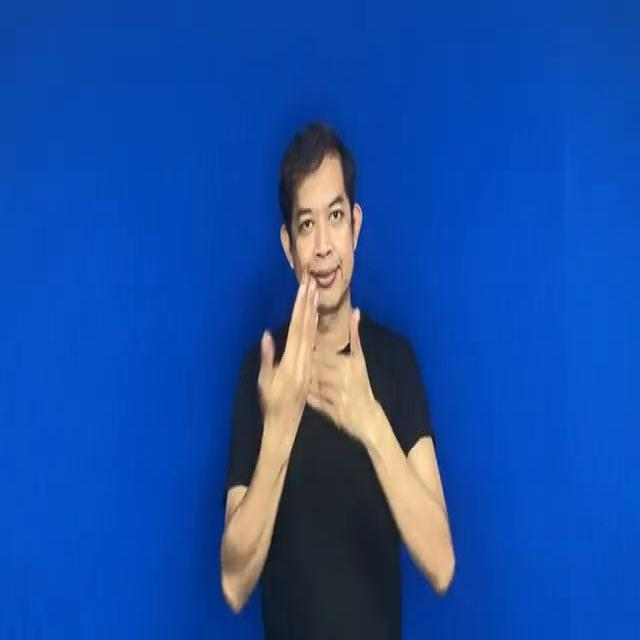bread: (261, 262, 378, 460)
